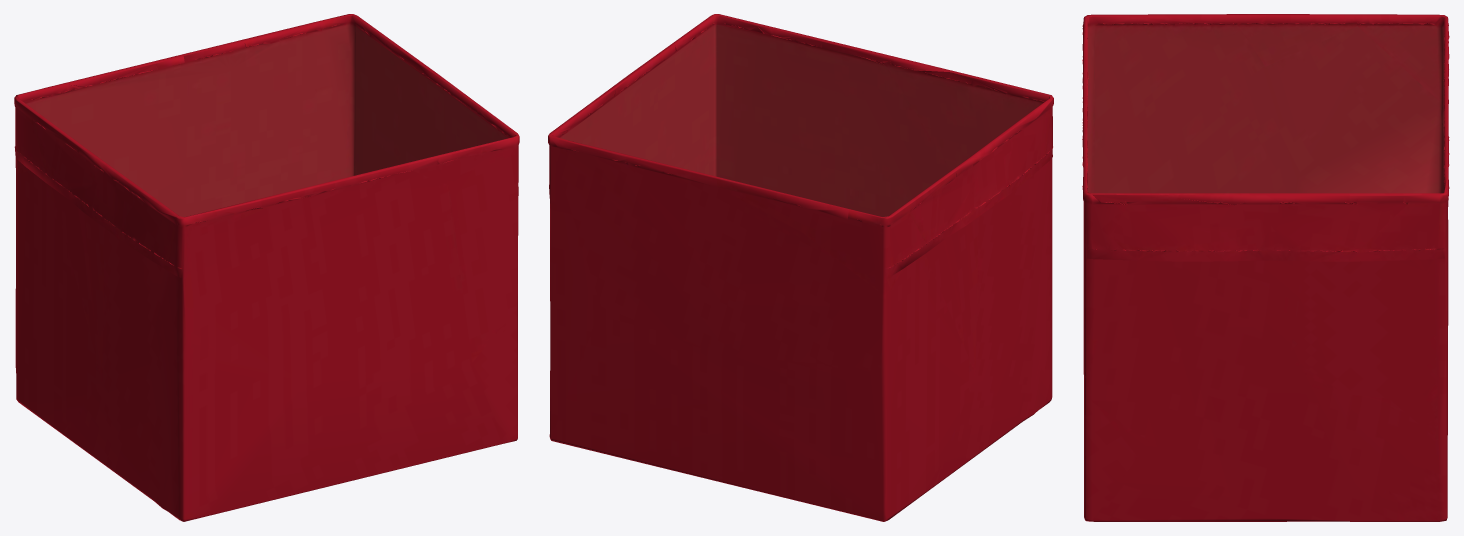
File: DRÖNA rouge.glb
3 views of the same model, side by side, from view 1: azimuth 30°, elevation 25°; view 2: azimuth 150°, elevation 25°; view 3: azimuth 270°, elevation 25° (orthographic). The views are drawn at different scales.
Visible parts, largest first — view 1: ProcessedMeshNode; view 2: ProcessedMeshNode; view 3: ProcessedMeshNode.
Boxes of the visible parts, x1,y1,x2,y2 form: ProcessedMeshNode: (14, 14, 519, 521); ProcessedMeshNode: (548, 14, 1053, 521); ProcessedMeshNode: (1082, 14, 1449, 521).
Size of the model in its own units: 0.3908 by 0.3283 by 0.3276.
Materials: 2 (2 with a texture image).
